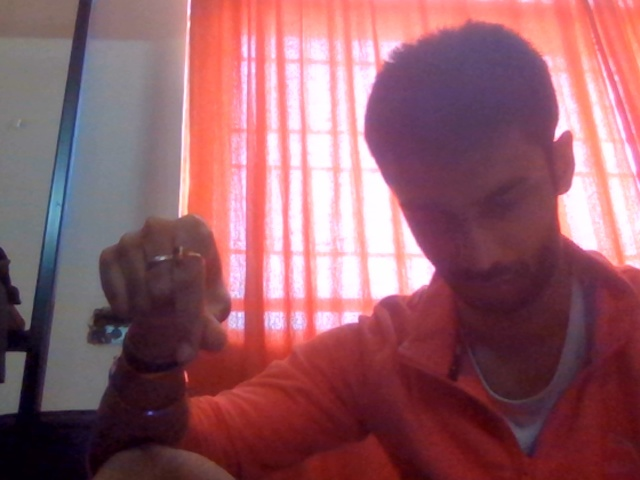Q: (81, 195, 241, 400)
